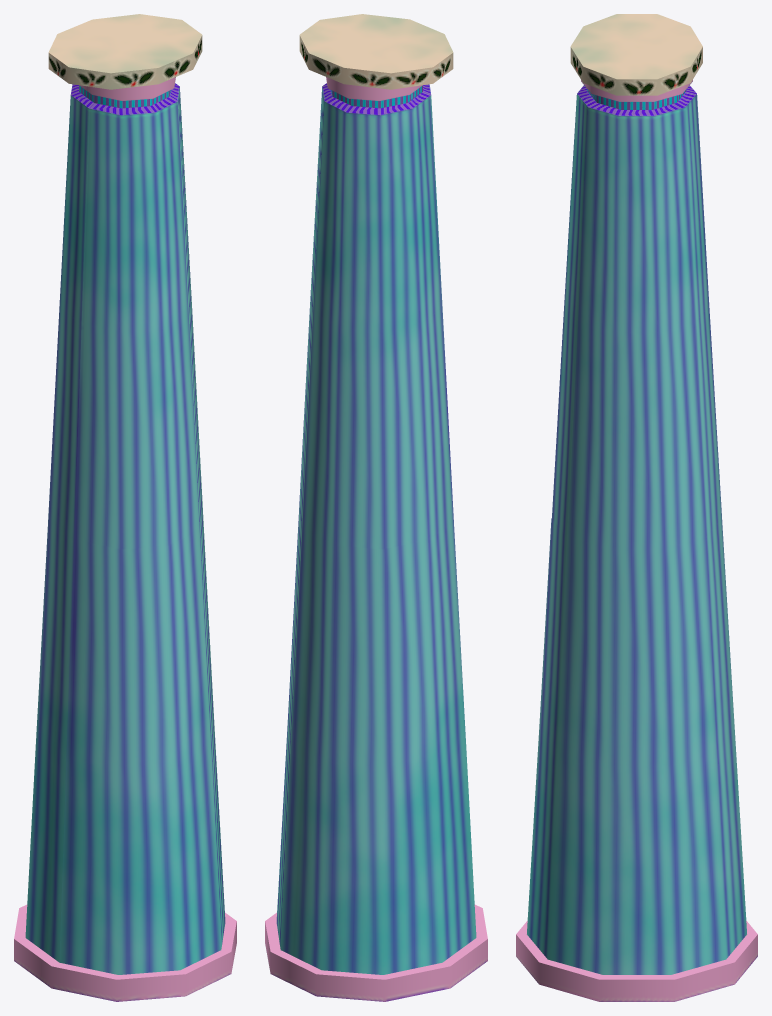
Rendered from column.glb.
The picture shows the model from 3 angles, left to right: view 1: azimuth 30°, elevation 25°; view 2: azimuth 150°, elevation 25°; view 3: azimuth 270°, elevation 25°; orthographic projection.
Parts seen in each view (by area): view 1: Column_Vapor_02; view 2: Column_Vapor_02; view 3: Column_Vapor_02.
Part boxes in pixels (bbox=[...]): Column_Vapor_02: bbox=[14, 14, 236, 1001]; Column_Vapor_02: bbox=[265, 14, 487, 1001]; Column_Vapor_02: bbox=[516, 14, 757, 1001].
Bounding box in the file's own units: 1.7 × 7.96 × 1.92.
1 material, 1 textured.
